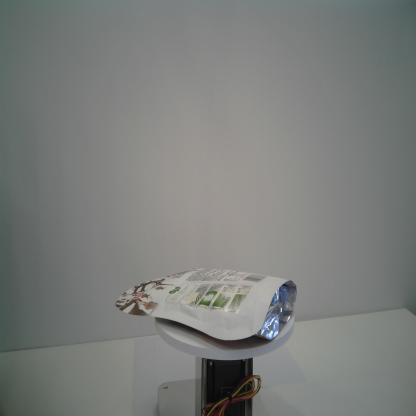Dried Fruit: (115, 267, 297, 342)
